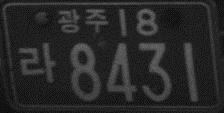1: (180, 39, 202, 103), (116, 7, 130, 39)
3: (137, 40, 172, 102)
4: (105, 41, 138, 103)
8: (69, 41, 101, 102), (134, 7, 158, 38)
광주_O: (57, 7, 109, 35)
라: (16, 42, 57, 84)
